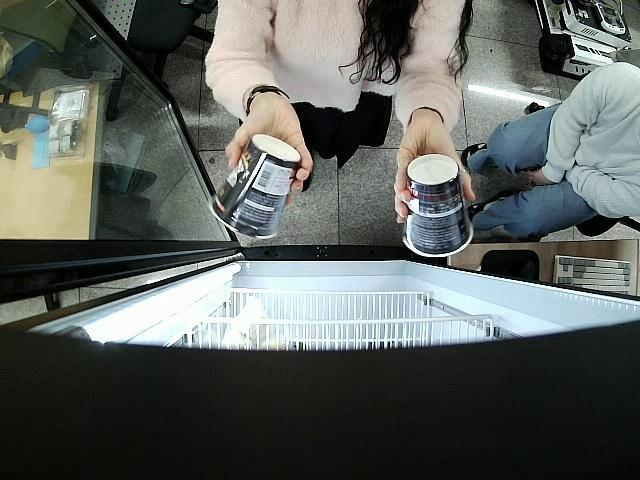08_buldak_S: (206, 134, 303, 241), (400, 154, 473, 259)
